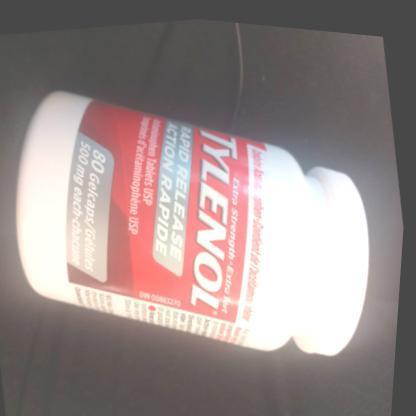jar: (0, 85, 396, 373)
